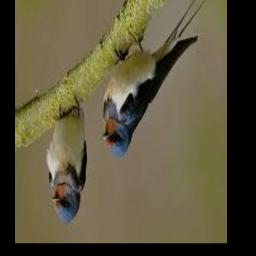Swallow: (101, 0, 215, 157), (46, 104, 88, 223)
